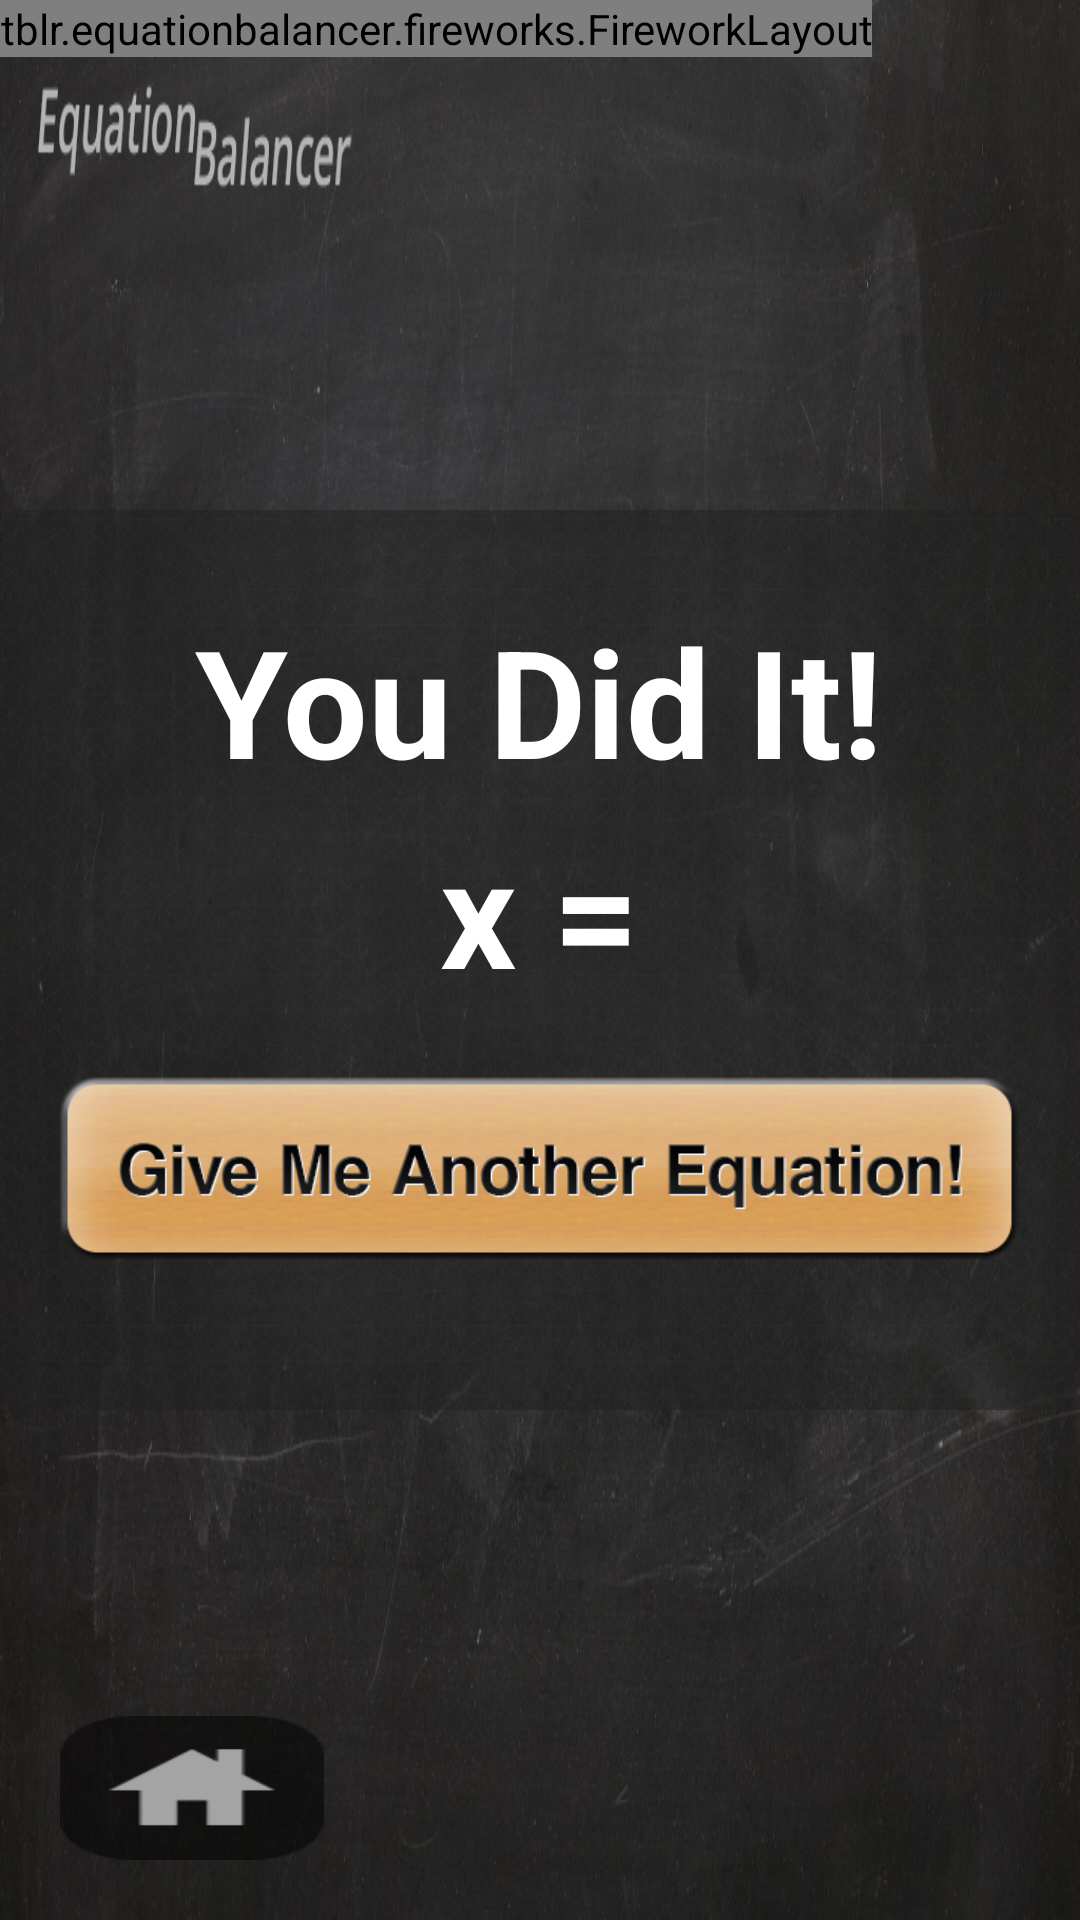

Point at icon controls on the screen. Image size 1080 x 1920, points as (x=x, y=y).
btnhome hd: (x=192, y=1787)
